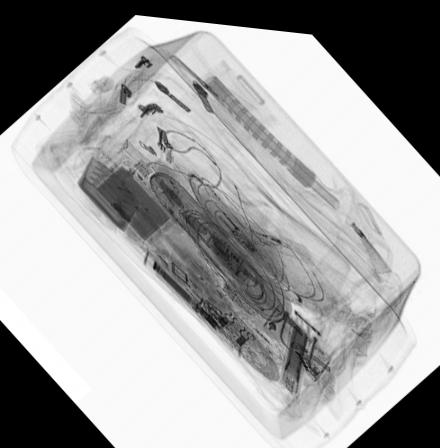Lighter: (240, 215, 316, 259)
